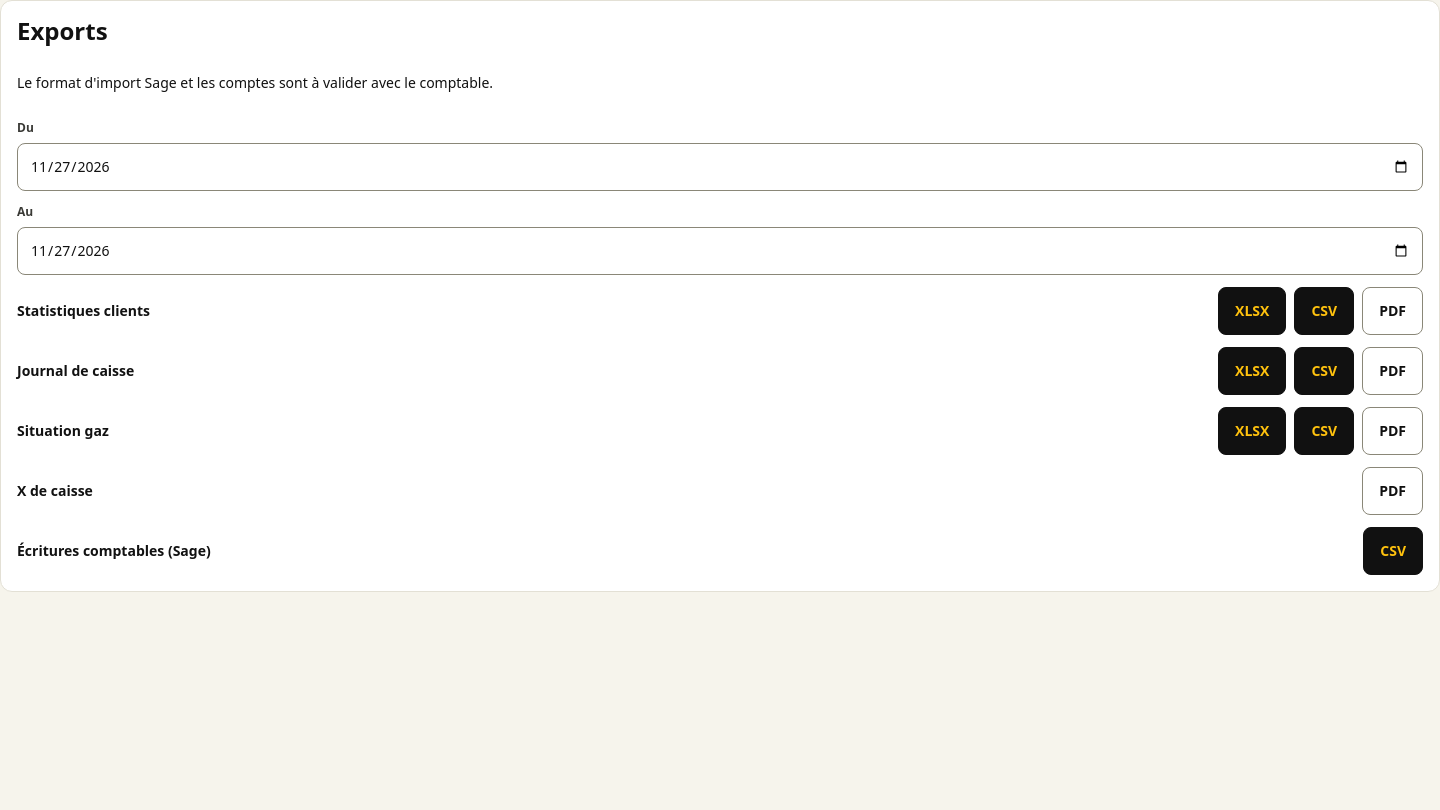
Test: exports › bloque une période inversée et explique un refus ou une panne
Click the button with aria-label ".pdf)".
click(1393, 311)  # box x1=1362 y1=287 x2=1423 y2=335
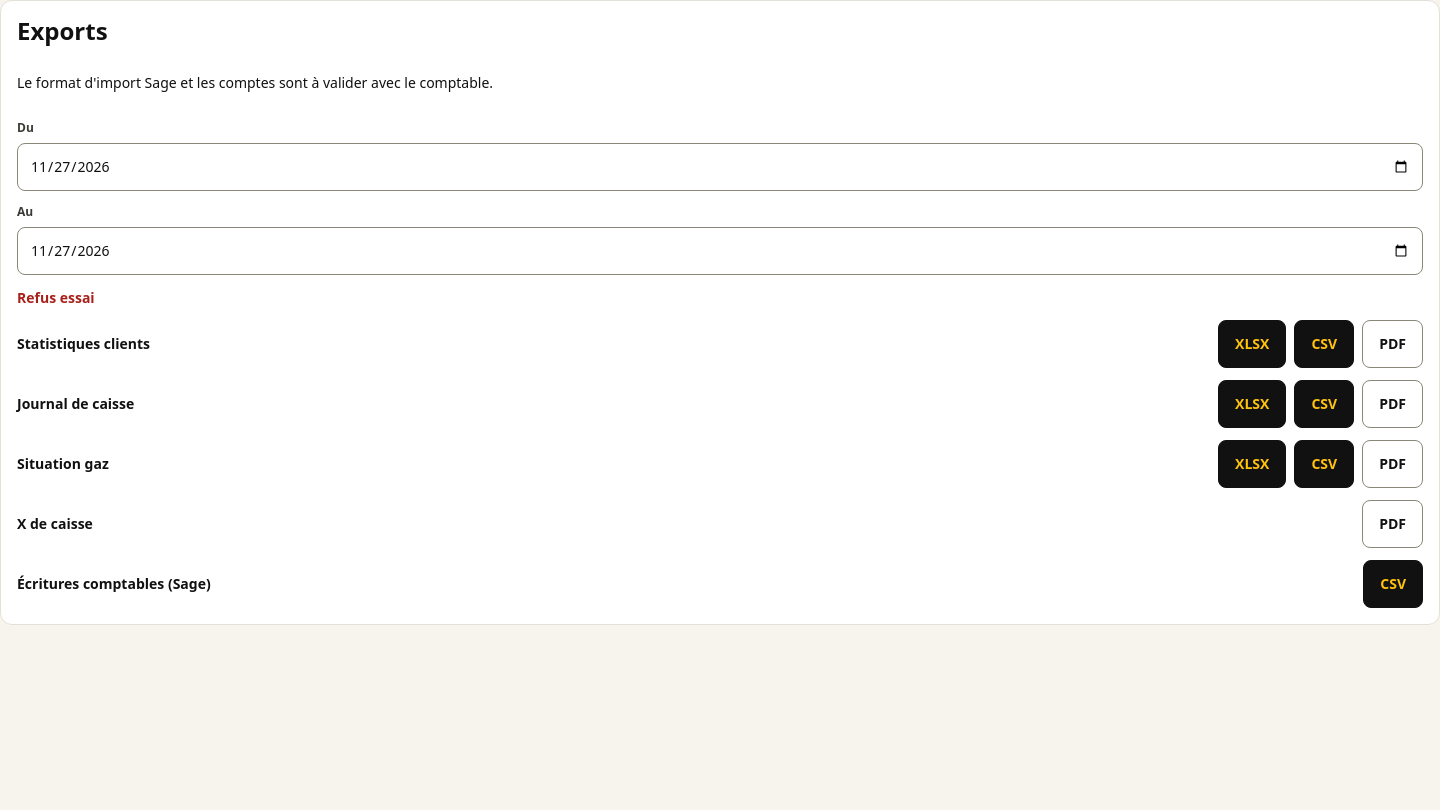
Now the message reads "Refus essai", box x1=17 y1=288 x2=95 y2=307
Click the button with aria-label ".pdf)".
click(1393, 344)  # box x1=1362 y1=320 x2=1423 y2=368
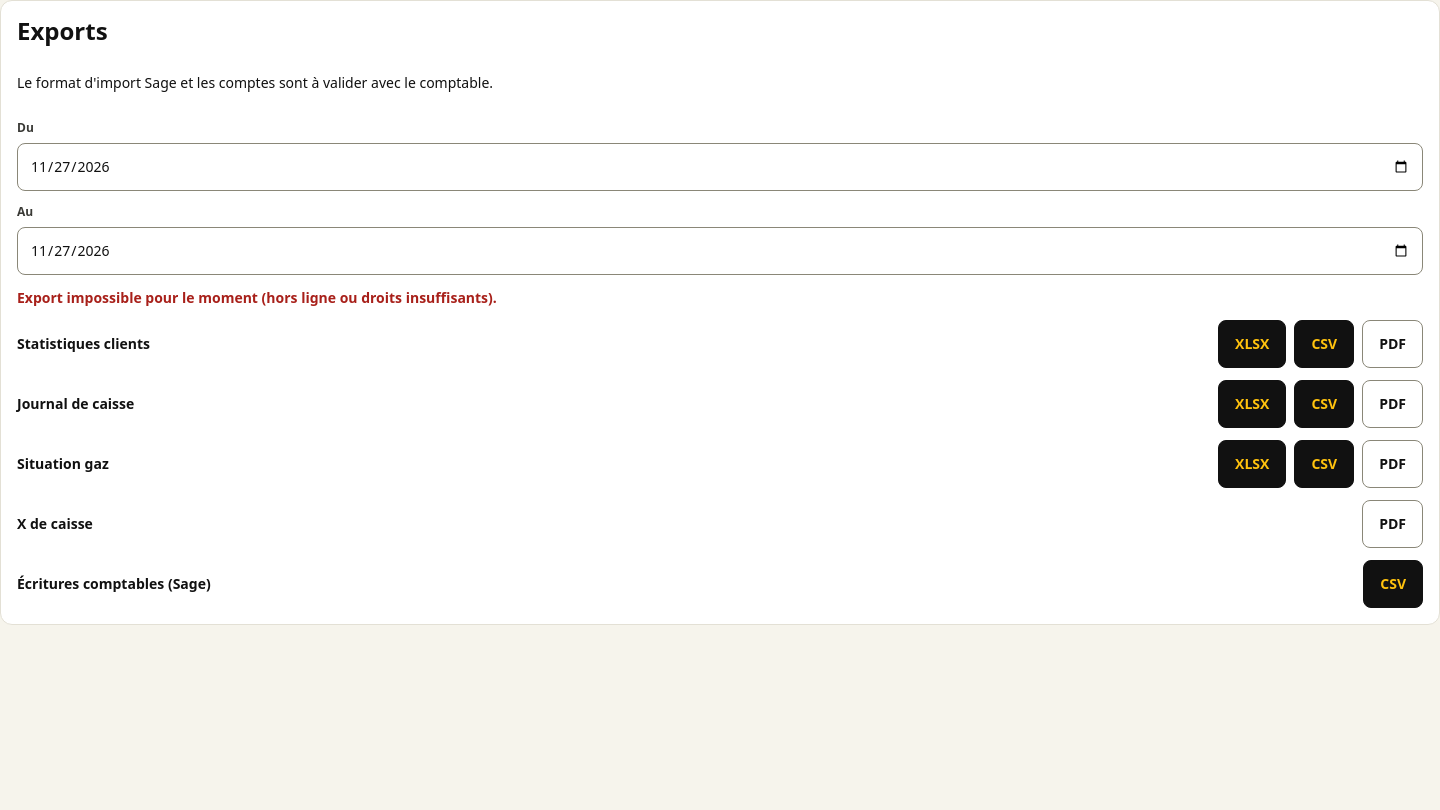
Now the message "Refus essai" no longer shows "Refus essai"
Type "2020-01-01" into the date field labelled "Au".
click(720, 251); type("2020-01-01")  # box x1=17 y1=227 x2=1423 y2=275
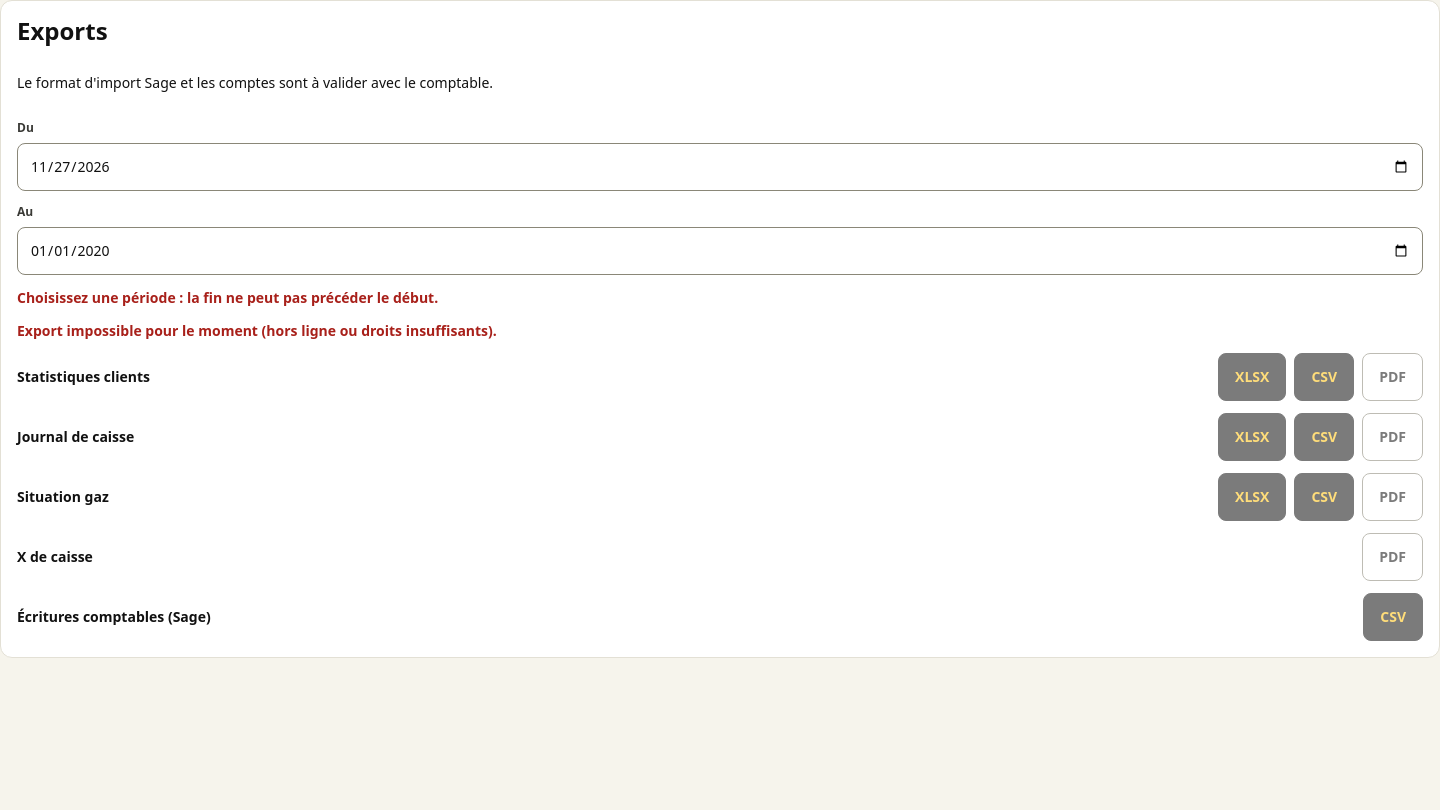
Now the button with aria-label ".xlsx)" is disabled, box x1=1218 y1=353 x2=1286 y2=401
